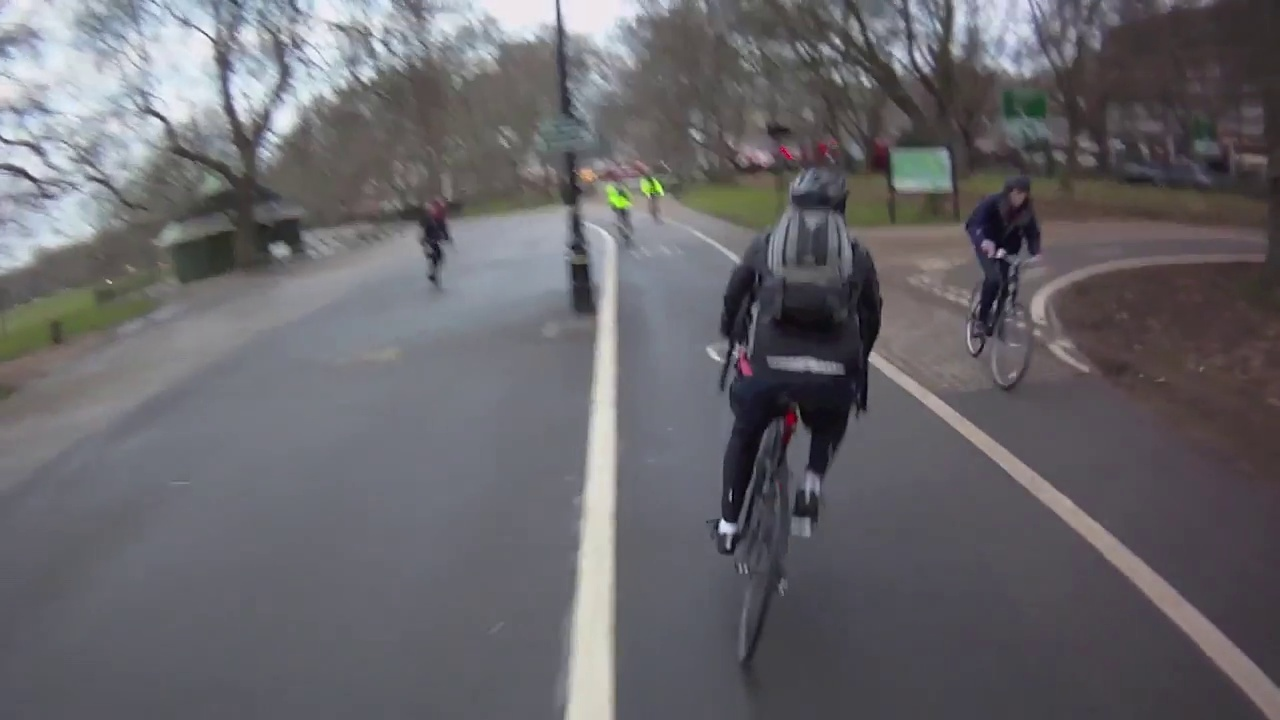cyclist_back: (707, 155, 889, 681)
cyclist_front: (964, 155, 1053, 393)
